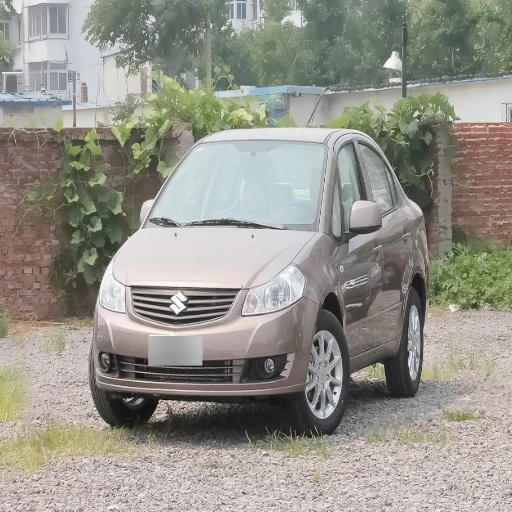front_bumper: (93, 287, 316, 394)
front_glass: (148, 140, 327, 230)
front_left_door: (334, 136, 383, 357)
